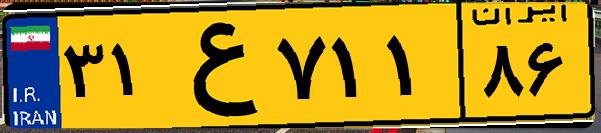1: (385, 28, 445, 110), (330, 28, 385, 110), (110, 28, 158, 98)
3: (57, 26, 110, 100)
6: (525, 38, 570, 115)
7: (270, 28, 330, 110)
8: (475, 38, 525, 113)
ع: (158, 12, 270, 120)
